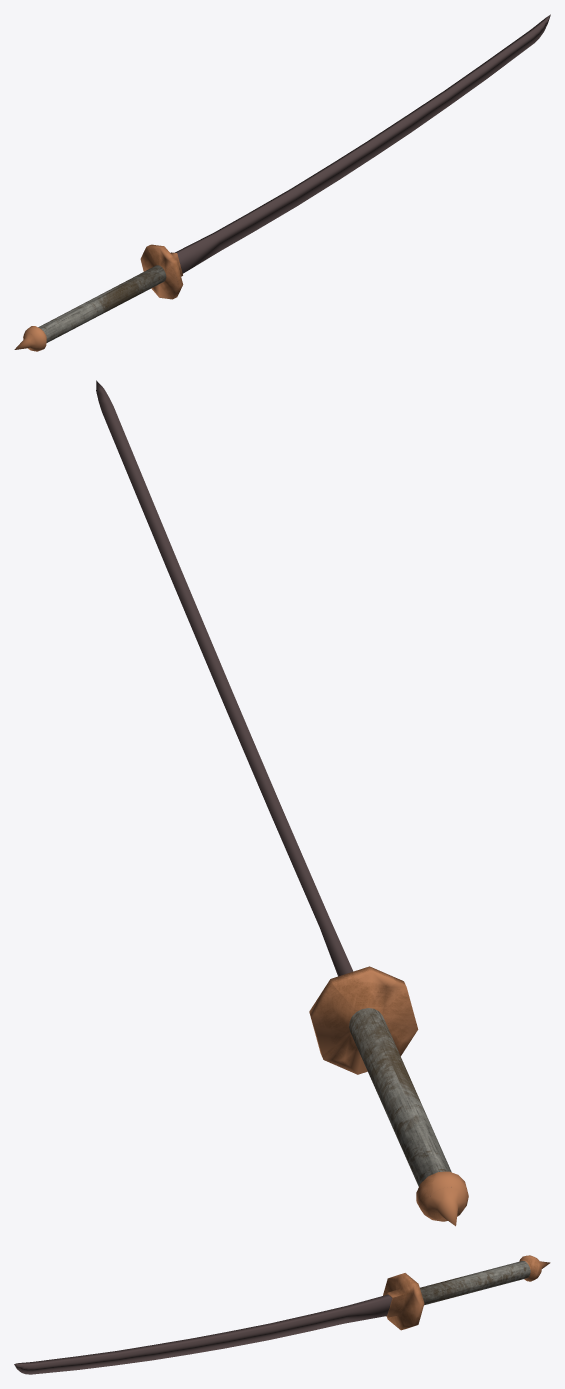
File: Anim_idle_katana_objetos.0034.obj
3 views of the same model, one above another, from view 1: azimuth 90°, elevation 25°; view 2: azimuth 150°, elevation 25°; view 3: azimuth 270°, elevation 25° (orthographic). The views are drawn at different scales.
Parts seen in each view (by area): view 1: Katana1; view 2: Katana1; view 3: Katana1.
Boxes of the visible parts, <box> form: Katana1: <box>14,14,550,351</box>; Katana1: <box>96,380,468,1226</box>; Katana1: <box>14,1255,550,1374</box>.
Bounding box in the file's own units: 3.66 × 0.9843 × 3.8.
